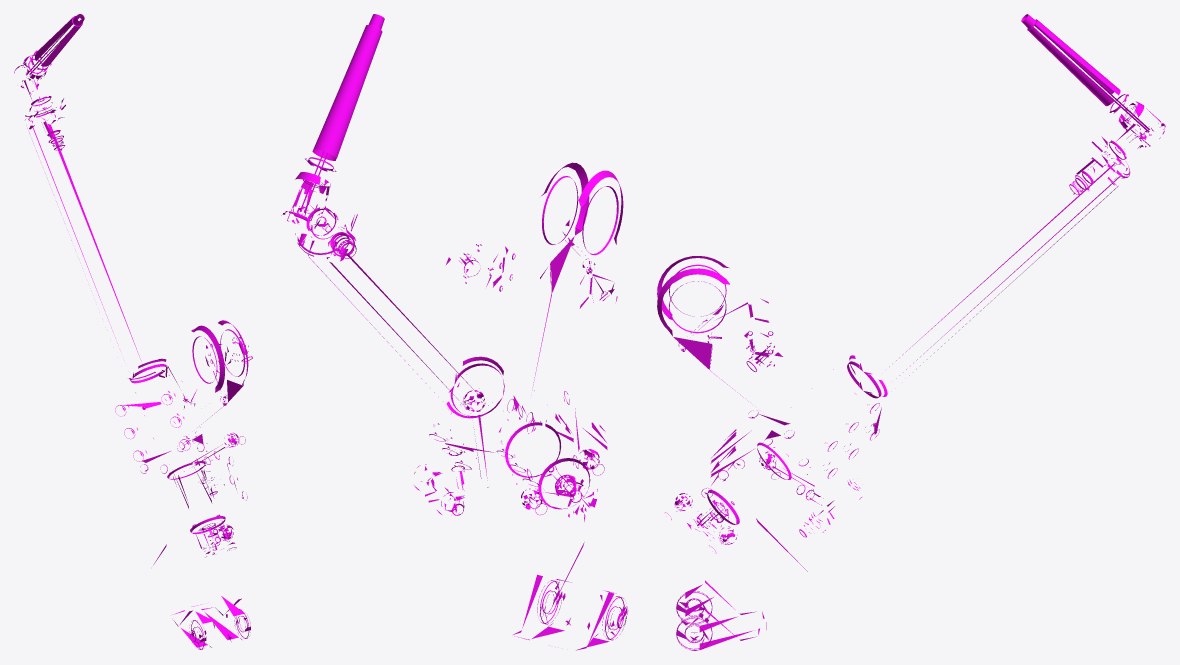
File: F266820012936_003_bew_Arm_Rep.dae
3 views of the same model, side by side, from view 1: azimuth 30°, elevation 25°; view 2: azimuth 150°, elevation 25°; view 3: azimuth 270°, elevation 25° (orthographic). The views are drawn at different scales.
Parts seen in each view (by area): view 1: F266820012936_003_bew_Arm; view 2: F266820012936_003_bew_Arm; view 3: F266820012936_003_bew_Arm.
Part boxes in pixels (left/top/right/bottom): F266820012936_003_bew_Arm: left=14, top=14, right=252, bottom=649; F266820012936_003_bew_Arm: left=281, top=14, right=628, bottom=650; F266820012936_003_bew_Arm: left=657, top=14, right=1165, bottom=650.
Size of the model in its own units: 146 by 562 by 761.
